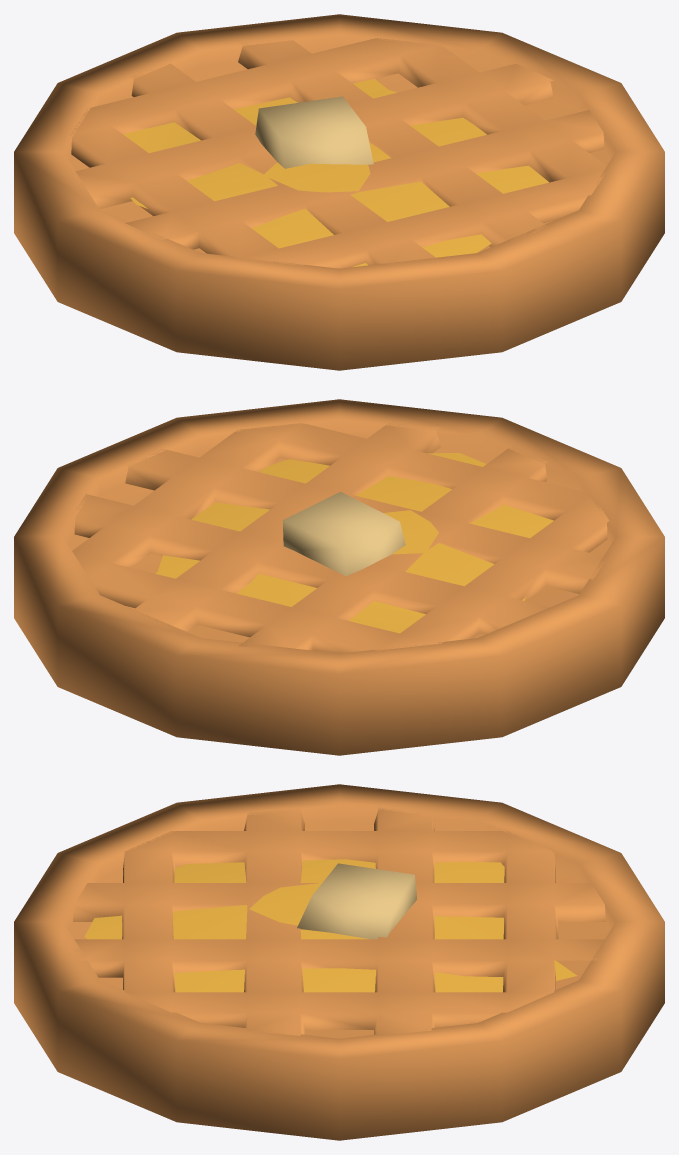
The model's file is SM_Prop_Waffle_01.obj.
3 renders of one model, top to bottom at view 1: azimuth 30°, elevation 25°; view 2: azimuth 150°, elevation 25°; view 3: azimuth 270°, elevation 25°, orthographic.
Parts seen in each view (by area): view 1: SM_Prop_Waffle_01_Base-Color; view 2: SM_Prop_Waffle_01_Base-Color; view 3: SM_Prop_Waffle_01_Base-Color.
Part boxes in pixels (box(x1,y1,x2,y2)): SM_Prop_Waffle_01_Base-Color: box(14, 14, 664, 370); SM_Prop_Waffle_01_Base-Color: box(14, 399, 664, 755); SM_Prop_Waffle_01_Base-Color: box(14, 784, 664, 1140).
Size of the model in its own units: 0.1939 by 0.0372 by 0.1939.
Materials: 1 (1 with a texture image).
